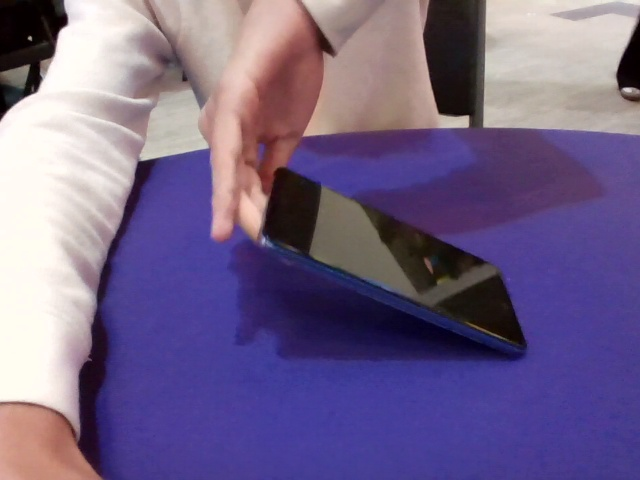celular: (258, 167, 322, 256)
